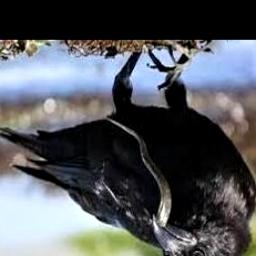Crow: (0, 49, 256, 256)
